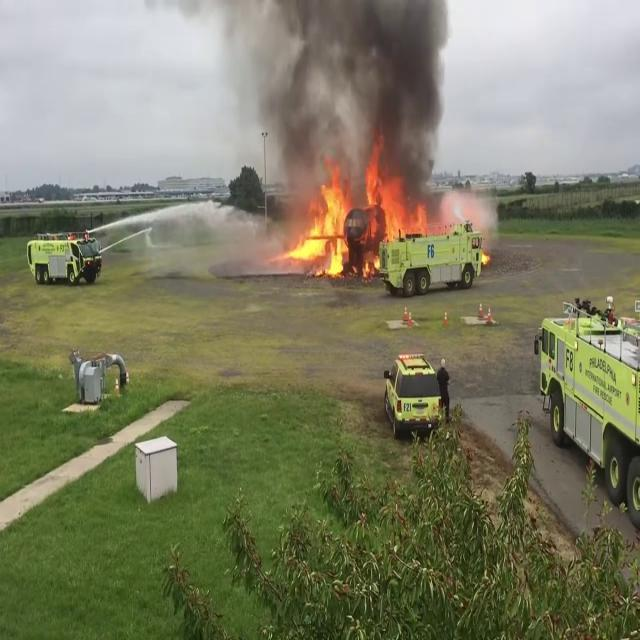Fire: (283, 176, 352, 278), (359, 134, 406, 236)
Smoke: (231, 0, 464, 175)
